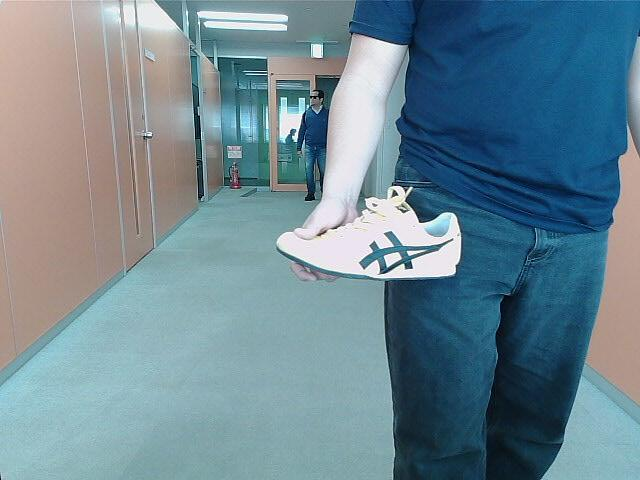Shoes: (274, 192, 467, 282)
